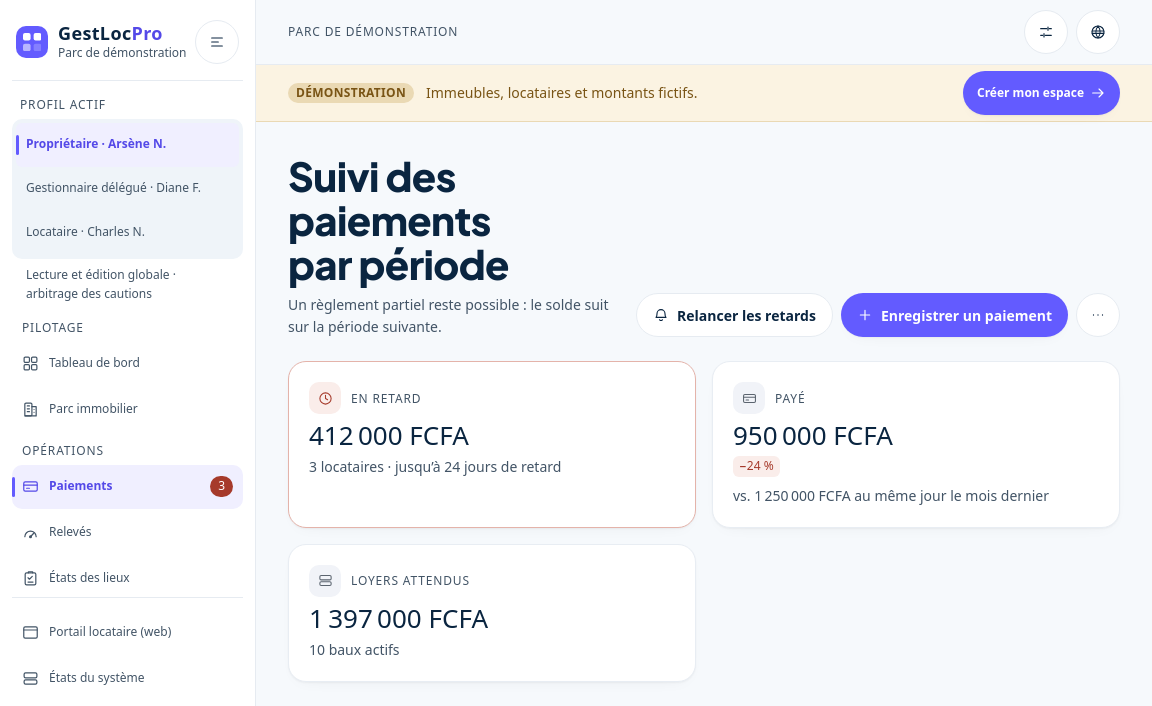
Test: les logements se choisissent en tapant › réduit la liste à ce qu’on tape, dans l’encaissement
Click the button "Enregistrer un paiement" at (954, 315), box [841,293,1068,337]
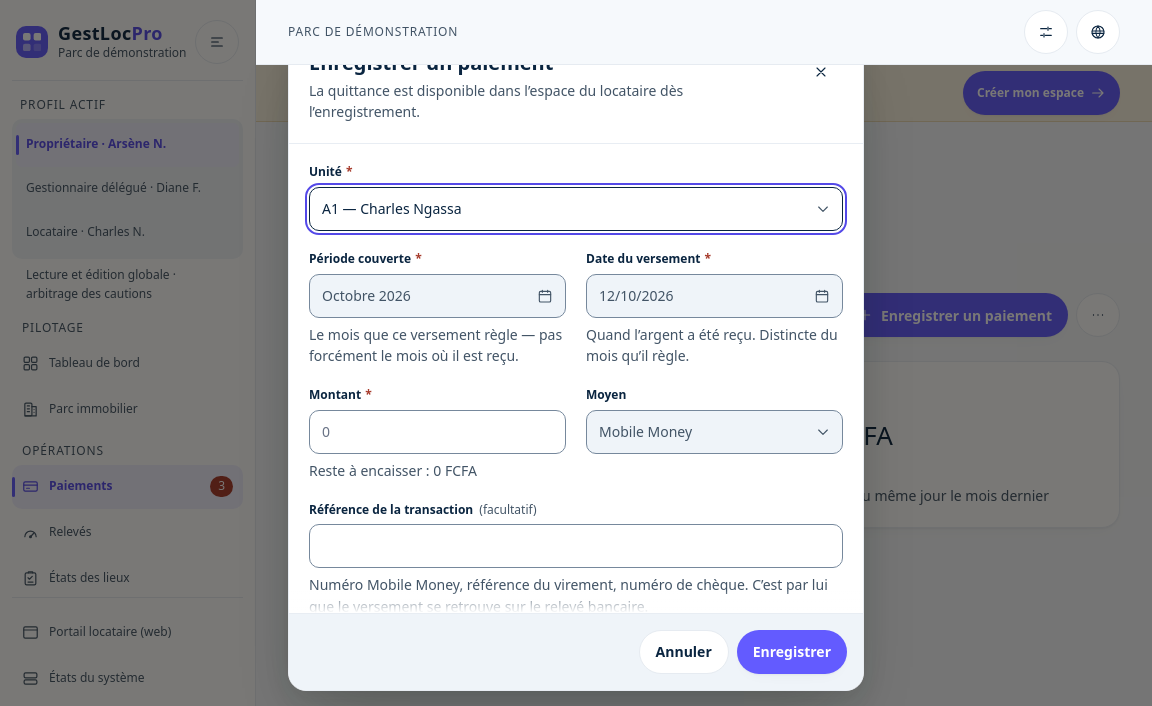
Type "A3" into the dropdown labelled "Unité*" at (576, 209), box [309,187,843,231]
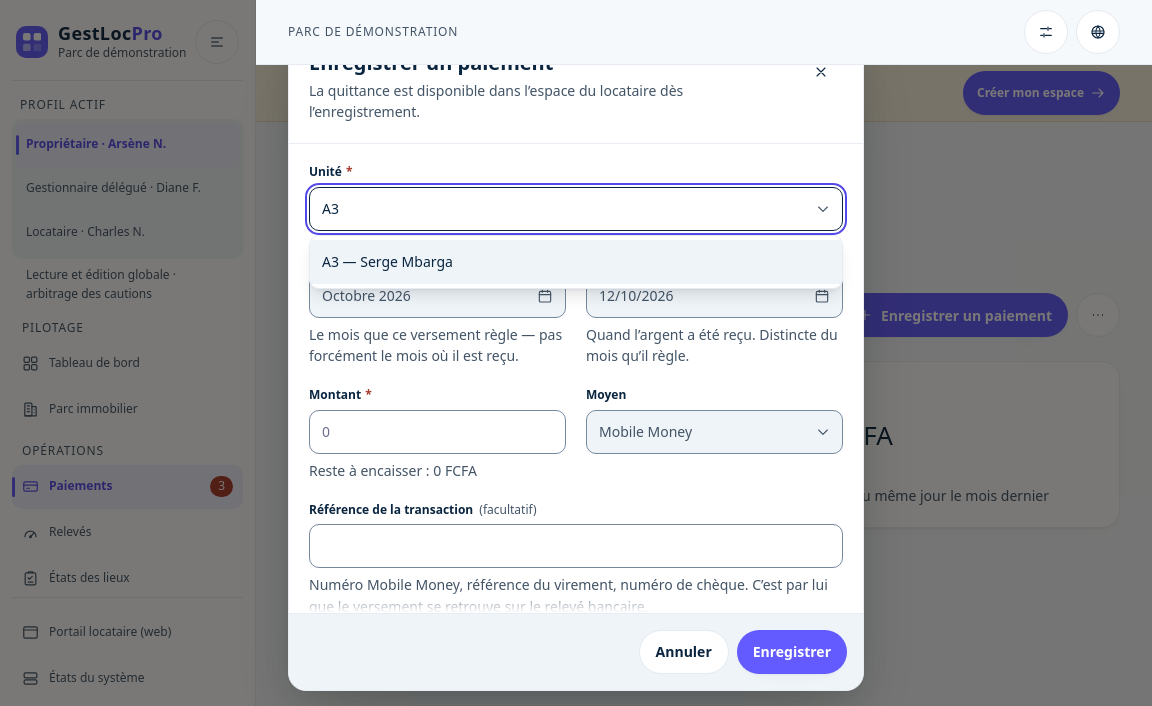
Result: the option shows "A3" at [310,240,842,284]
Result: the number of options is 1 at [310,240,842,284]
